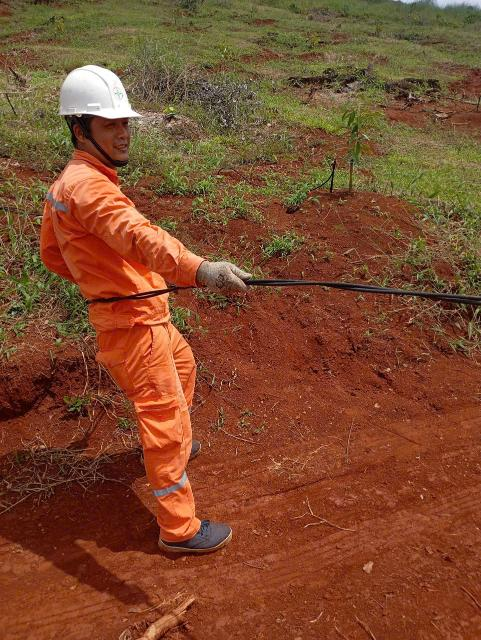gloves: (185, 256, 262, 307)
helmet: (37, 51, 163, 132)
shoes: (157, 506, 243, 563), (134, 431, 209, 471)
